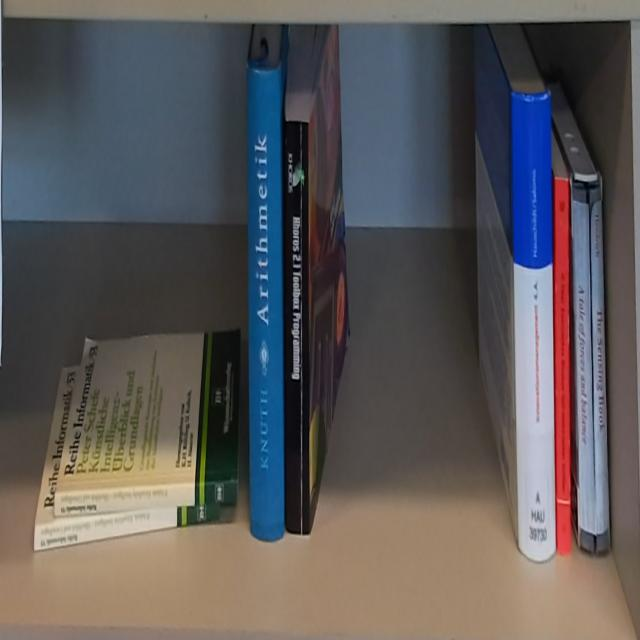Book Spine: (508, 84, 556, 571), (245, 64, 286, 543), (282, 122, 311, 537), (572, 176, 594, 570), (589, 176, 611, 563), (30, 513, 217, 556), (52, 478, 239, 519), (553, 169, 572, 560)
